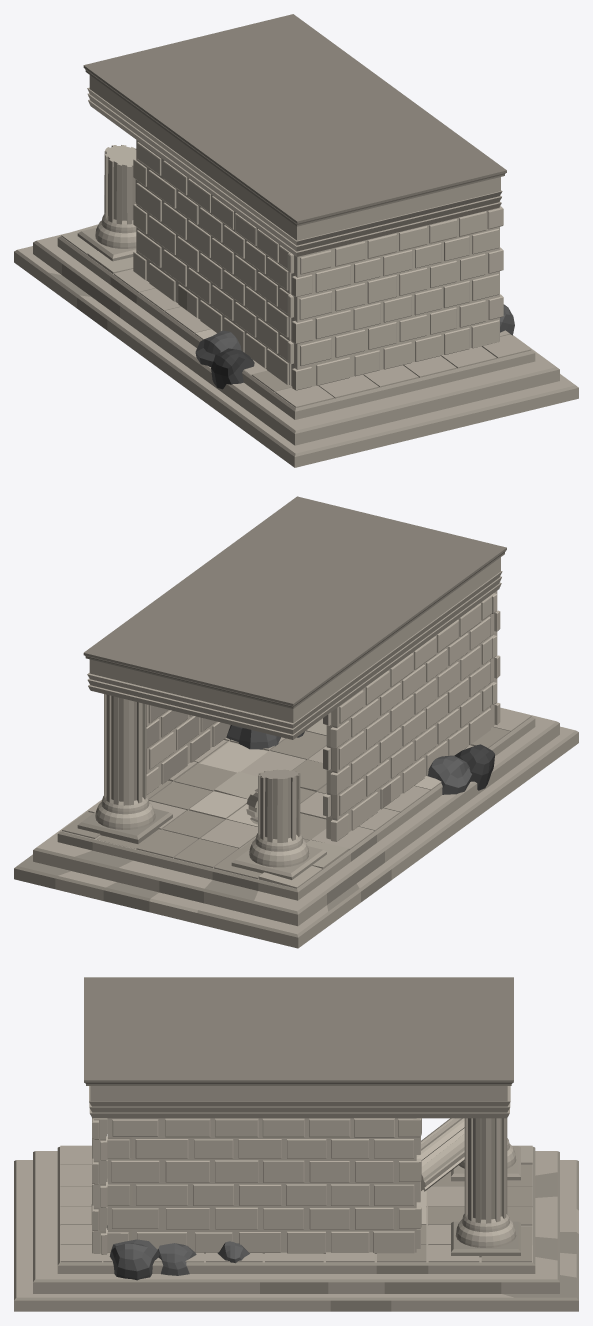
The model's file is TemploFinalJuego.fbx.
3 renders of one model, top to bottom at view 1: azimuth 30°, elevation 25°; view 2: azimuth 150°, elevation 25°; view 3: azimuth 270°, elevation 25°, orthographic.
Parts seen in each view (by area): view 1: Cornixa, Basamento, Muro_2, Muro, Arquitrabe, Friso, Columna1, Rocas:Roquita6, Rocas:Roquita1; view 2: Basamento, Cornixa, Muro, Arquitrabe, Columna, Friso, Columna1, Muro_3, Rocas:Roquita1, Muro_2, Rocas:Roquita6, Rocas:Roquita7; view 3: Basamento, Cornixa, Muro_3, Arquitrabe, Columna, Friso, Columna2, Muro_2, Rocas:Roquita5, Rocas:Roquita, Columna1, Rocas:Roquita2.
Boxes of the visible parts, x1=… form: Cornixa: x1=83, y1=14, x2=506, y2=226; Basamento: x1=14, y1=224, x2=578, y2=467; Muro_2: x1=287, y1=206, x2=503, y2=390; Muro: x1=133, y1=140, x2=292, y2=385; Arquitrabe: x1=87, y1=87, x2=502, y2=256; Friso: x1=89, y1=75, x2=500, y2=240; Columna1: x1=77, y1=145, x2=136, y2=261; Rocas:Roquita6: x1=211, y1=348, x2=254, y2=389; Rocas:Roquita1: x1=195, y1=330, x2=241, y2=366; Basamento: x1=14, y1=707, x2=578, y2=948; Cornixa: x1=83, y1=496, x2=506, y2=708; Muro: x1=323, y1=594, x2=493, y2=841; Arquitrabe: x1=87, y1=571, x2=502, y2=739; Columna: x1=77, y1=694, x2=172, y2=843; Friso: x1=89, y1=557, x2=500, y2=723; Columna1: x1=231, y1=769, x2=326, y2=879; Muro_3: x1=146, y1=704, x2=230, y2=794; Rocas:Roquita1: x1=427, y1=755, x2=472, y2=794; Muro_2: x1=490, y1=591, x2=500, y2=727; Rocas:Roquita6: x1=454, y1=744, x2=494, y2=790; Rocas:Roquita7: x1=226, y1=725, x2=280, y2=749; Basamento: x1=14, y1=1145, x2=578, y2=1311; Cornixa: x1=84, y1=977, x2=513, y2=1085; Muro_3: x1=106, y1=1118, x2=421, y2=1253; Arquitrabe: x1=89, y1=1086, x2=510, y2=1118; Columna: x1=451, y1=1118, x2=520, y2=1257; Friso: x1=90, y1=1086, x2=507, y2=1101; Columna2: x1=416, y1=1118, x2=464, y2=1191; Muro_2: x1=91, y1=1118, x2=107, y2=1254; Rocas:Roquita5: x1=109, y1=1239, x2=159, y2=1280; Rocas:Roquita: x1=157, y1=1243, x2=196, y2=1275; Columna1: x1=451, y1=1138, x2=520, y2=1181; Rocas:Roquita2: x1=217, y1=1241, x2=249, y2=1263.
Size of the model in its own units: 19.66 by 14.01 by 33.65.
